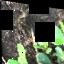Purslane: (1, 0, 64, 64)
